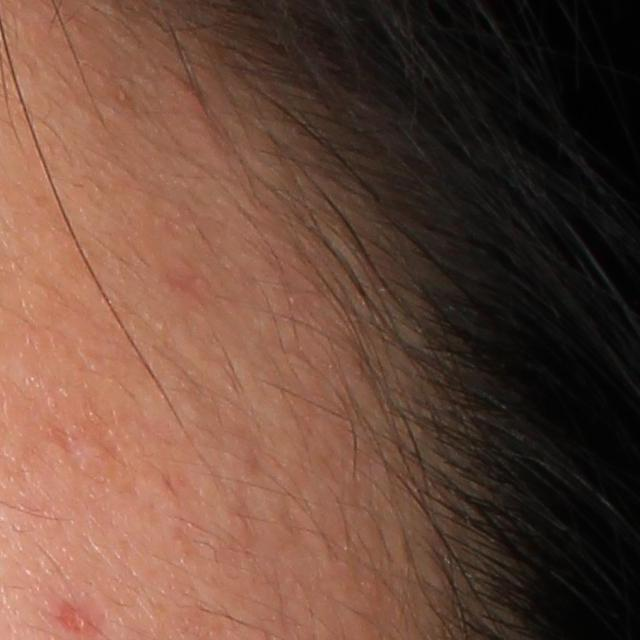papule: (184, 77, 208, 120)
